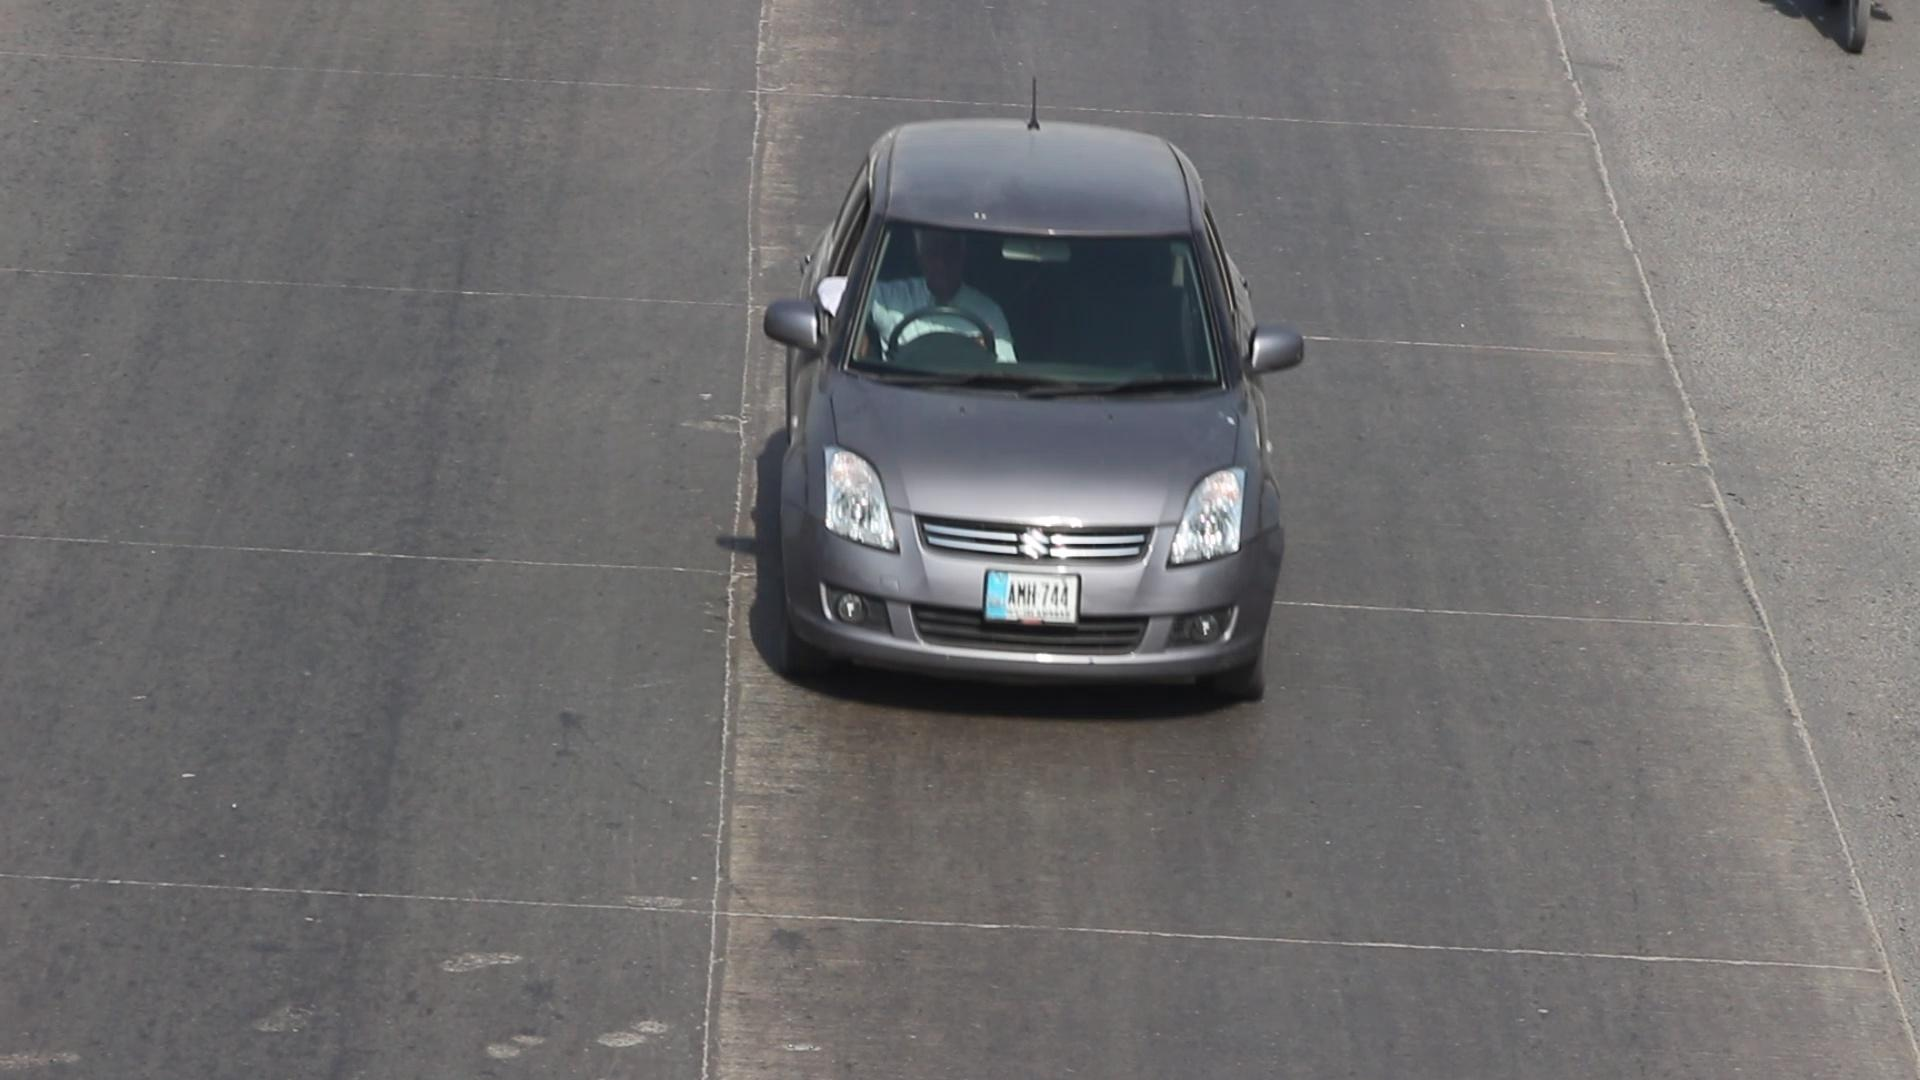windshield: (837, 203, 1247, 397)
